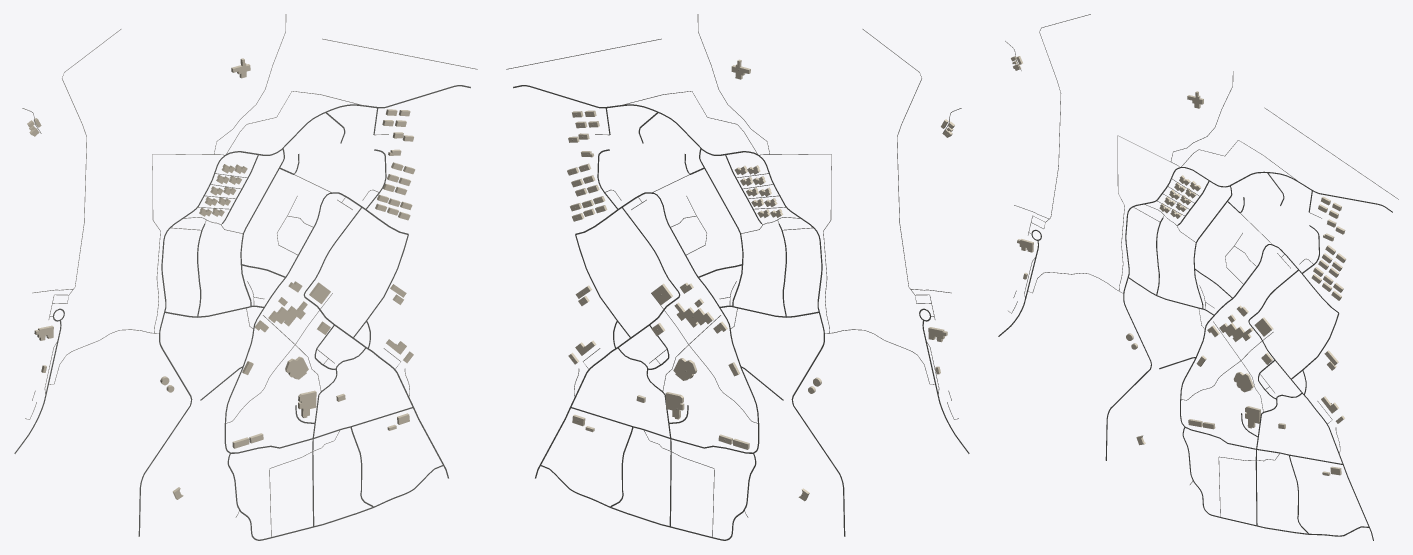
File: historic-palestine-07_24_3485_3188.glb
3 views of the same model, side by side, from view 1: azimuth 30°, elevation 25°; view 2: azimuth 150°, elevation 25°; view 3: azimuth 330°, elevation 25° (orthographic). The views are drawn at different scales.
Visible parts, largest first — view 1: Road .031, Road .004, Road, Road .029; view 2: Road .031, Road .004, Road, Road .029; view 3: Road .031, Road, Road .004.
Part boxes in pixels (box(x1,y1,x2,y2)): Road .031: box(138, 85, 470, 536); Road .004: box(224, 192, 408, 453); Road: box(303, 207, 448, 478); Road .029: box(227, 454, 443, 540); Road .031: box(513, 85, 845, 536); Road .004: box(575, 192, 759, 453); Road: box(535, 207, 680, 478); Road .029: box(540, 454, 756, 540); Road .031: box(1105, 167, 1392, 460); Road: box(1248, 269, 1373, 540); Road .004: box(1180, 244, 1338, 426).
Bounding box in the file's own units: 1165 × 1313 × 8.7.
